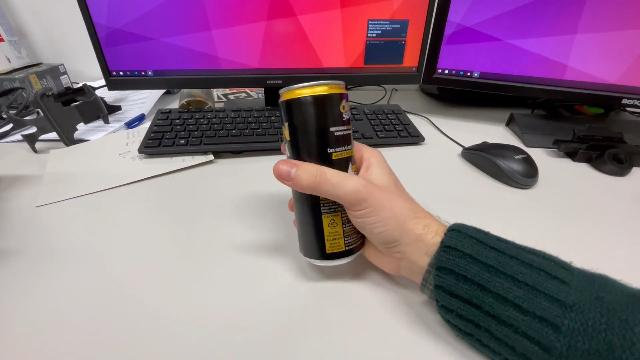OranSoda: (277, 78, 369, 268)
